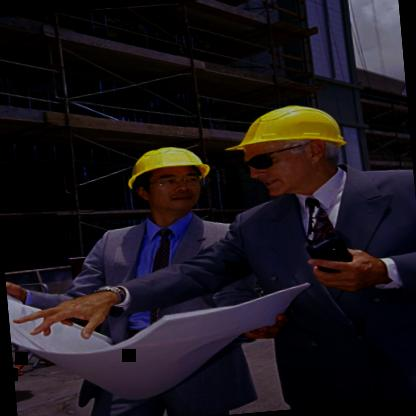helmet: (220, 88, 373, 213), (115, 136, 232, 226)
